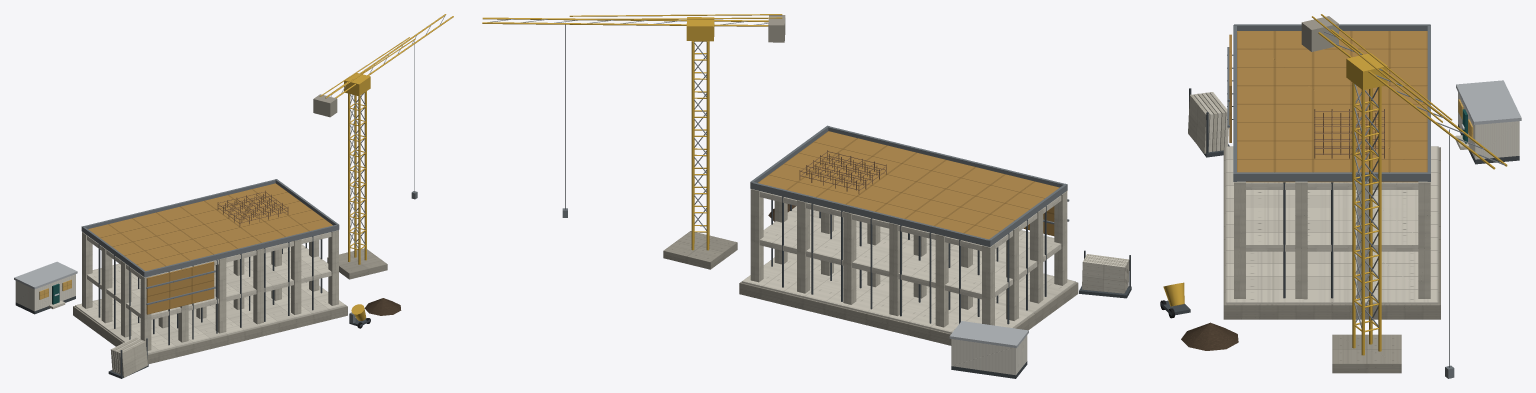
The model's file is lf-1-construction.glb.
3 renders of one model, left to right at view 1: azimuth 30°, elevation 25°; view 2: azimuth 150°, elevation 25°; view 3: azimuth 270°, elevation 25°, orthographic. The views are drawn at different scales.
Size of the model in its own units: 45.59 by 19.55 by 20.77.
22 materials, 13 textured.
